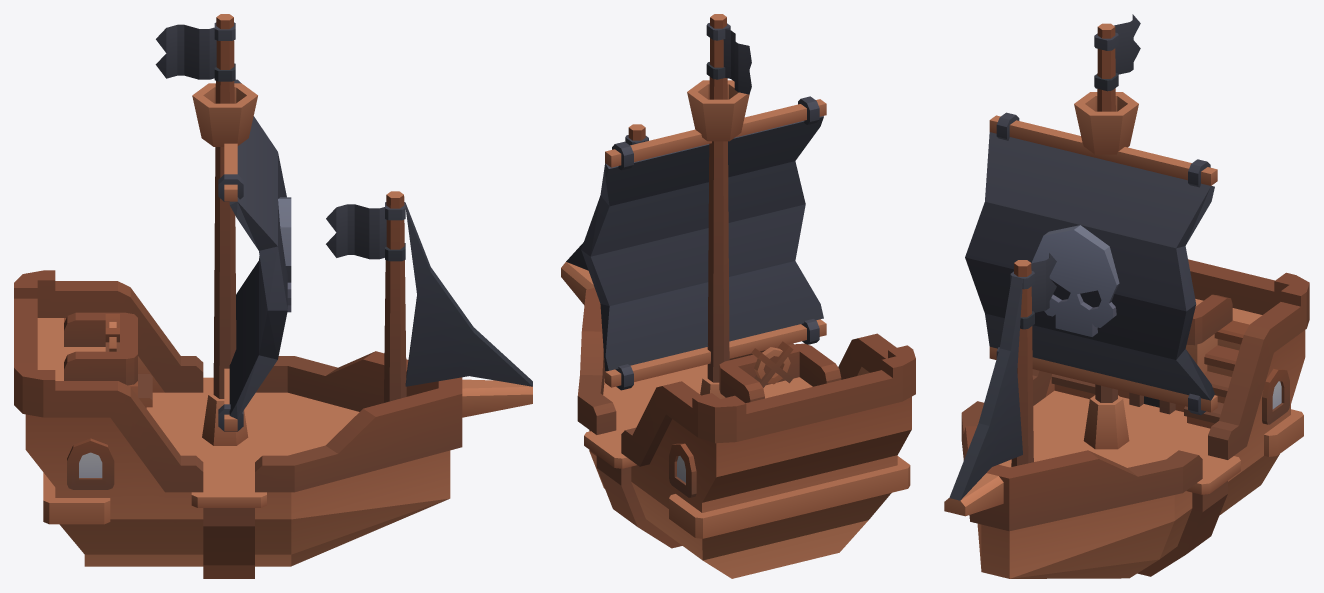
File: ship-pirate-small.glb
3 views of the same model, side by side, from view 1: azimuth 30°, elevation 25°; view 2: azimuth 150°, elevation 25°; view 3: azimuth 270°, elevation 25° (orthographic). The views are drawn at different scales.
Visible parts, largest first — view 1: geometry_0; view 2: geometry_0; view 3: geometry_0.
Part boxes in pixels (left/top/right/bottom): geometry_0: left=14, top=14, right=532, bottom=578; geometry_0: left=561, top=14, right=915, bottom=578; geometry_0: left=944, top=14, right=1309, bottom=578.
Size of the model in its own units: 0.7186 by 0.83 by 0.5237.
